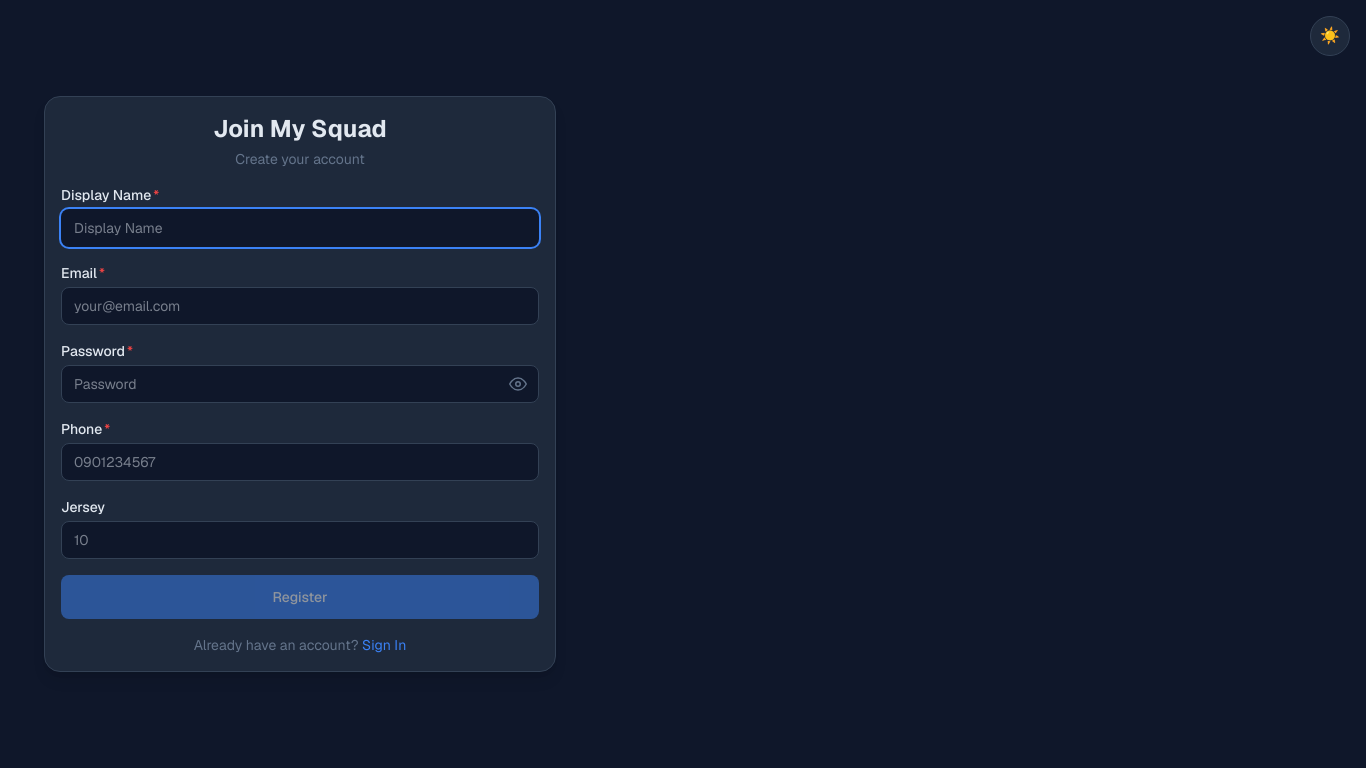
Test case: RegisterPage › password validation › should show error when password is empty and blurred
Click the password field labelled "Password".
click(300, 384)  # box [61,365,539,403]
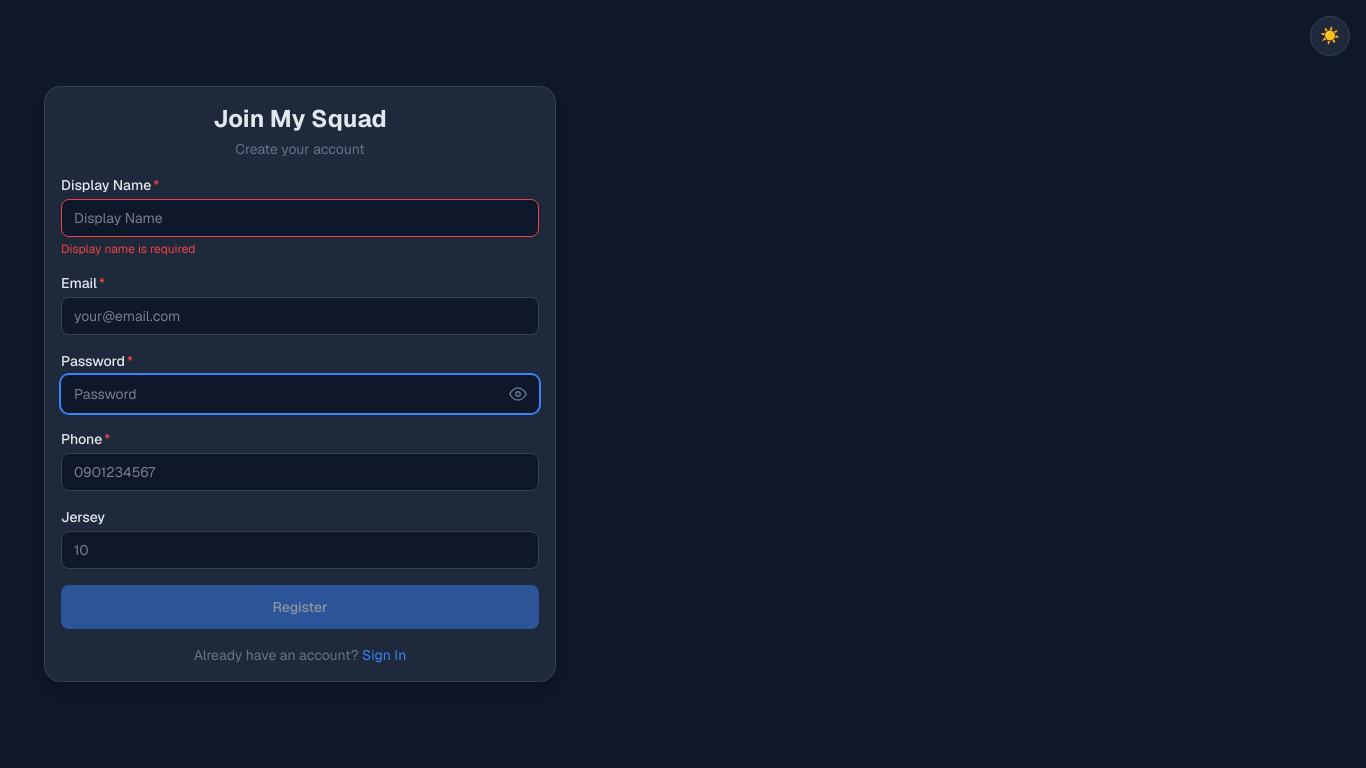
Press Tab
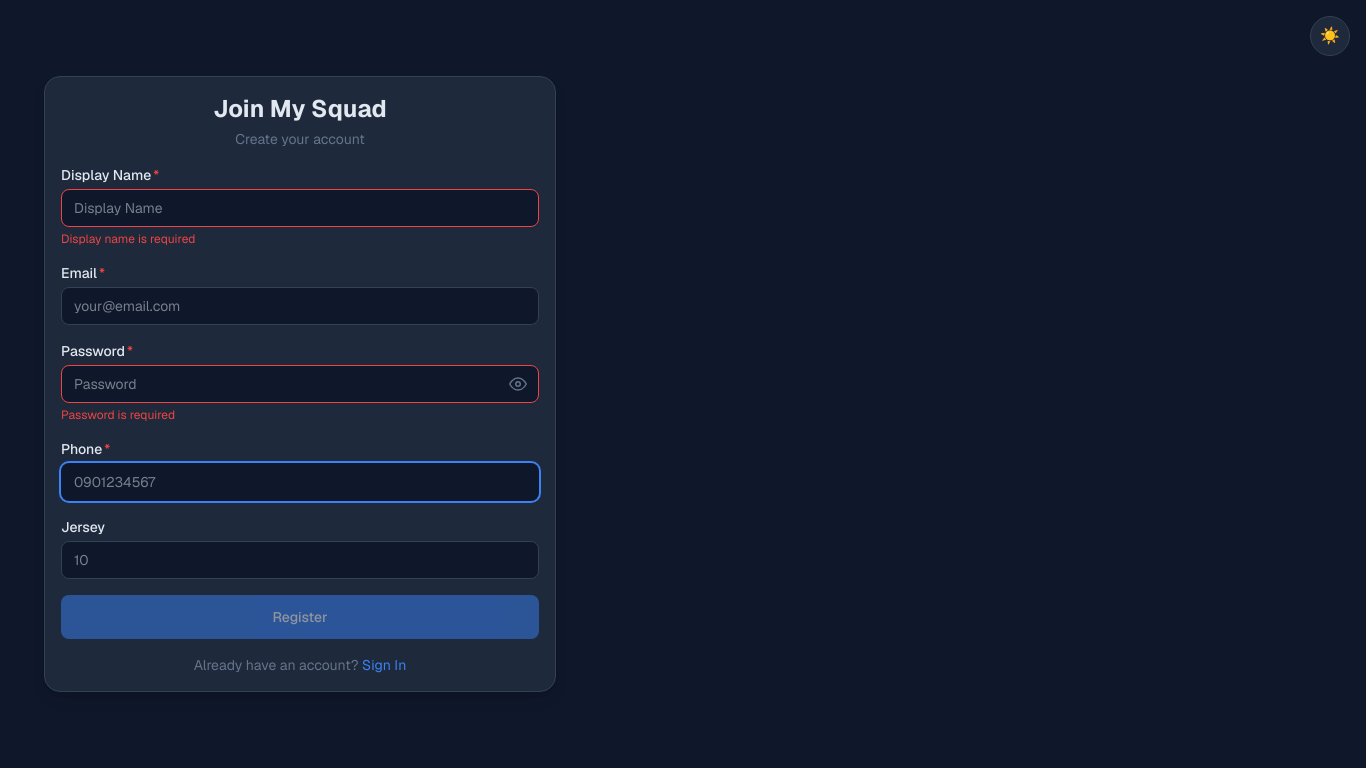
Expected: the list item "Password is required" is shown, [61,407,175,423]
